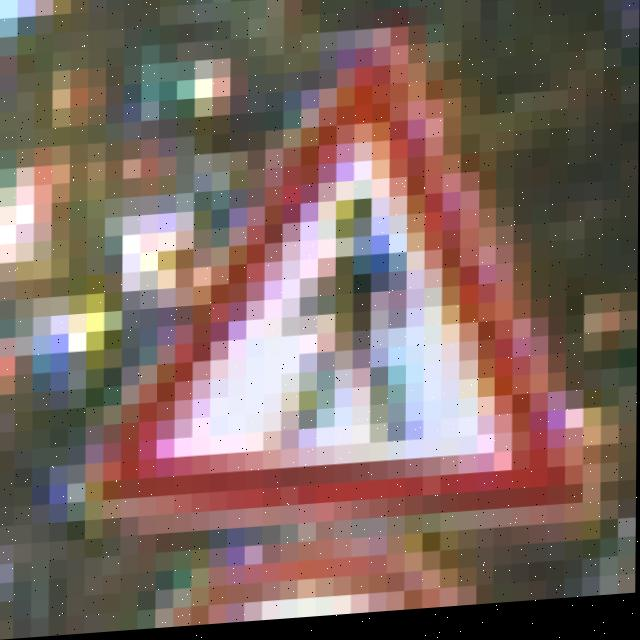crosswalk: (111, 84, 595, 543)
